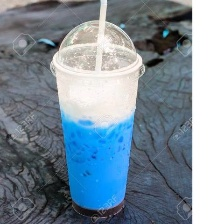drinking_straw: (90, 0, 111, 87)
glass: (46, 16, 165, 224)
